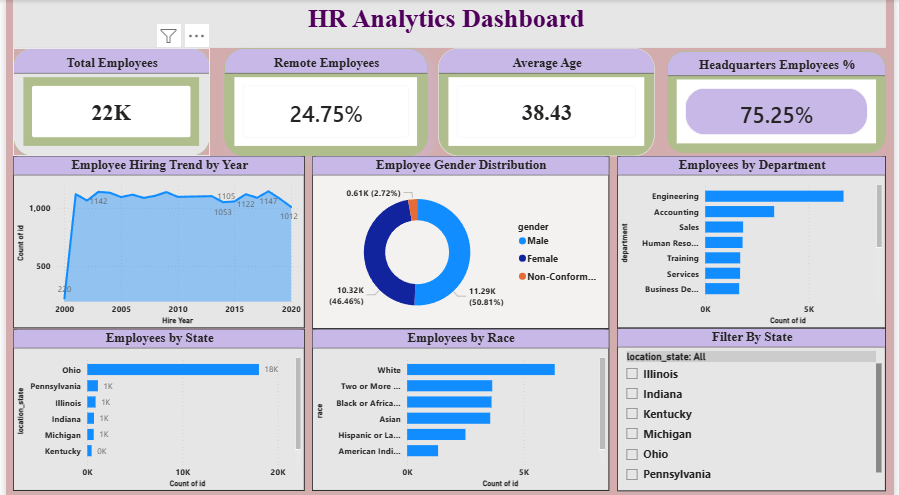

This screenshot's page, from the dashboard's own definition file:
{"tool":"powerbi","page":{"name":"HR Analytics Dashboard ","canvas":[1280,720],"ordinal":0},"visuals":[{"type":"textbox","box":[10.2,0,1257.1,68.8],"z":0},{"type":"cardVisual","title":"Total Employees ","fields":{"Data":["project_hr_analytics HR.Total Employees"]},"box":[10.1,69.1,283.7,155.5],"z":1000},{"type":"cardVisual","title":"Remote Employees ","fields":{"Data":["project_hr_analytics HR.Remote Employees %"]},"box":[313.9,69.1,293.8,155.5],"z":2000},{"type":"cardVisual","title":"Average Age ","fields":{"Data":["project_hr_analytics HR.Average Age"]},"box":[622.1,69.1,312.5,155.5],"z":3000},{"type":"cardVisual","title":"Headquarters Employees %","fields":{"Data":["project_hr_analytics HR.Headquarters Employees %"]},"box":[951.8,73.4,315.4,146.9],"z":4000},{"type":"lineChart","title":"Employee Hiring Trend by Year","fields":{"Category":["project_hr_analytics HR.Hire Year"],"Y":["CountNonNull(project_hr_analytics HR.id)"]},"box":[10.1,224.6,420.5,247.7],"z":5000},{"type":"donutChart","title":"Employee Gender Distribution","fields":{"Category":["project_hr_analytics HR.gender"],"Y":["CountNonNull(project_hr_analytics HR.id)"]},"box":[440.6,224.6,427.7,249.1],"z":6000},{"type":"clusteredBarChart","title":"Employees by Department","fields":{"Category":["project_hr_analytics HR.department"],"Y":["CountNonNull(project_hr_analytics HR.id)"]},"box":[879.8,224.6,387.4,247.7],"z":7000},{"type":"clusteredBarChart","title":"Employees by State ","fields":{"Category":["project_hr_analytics HR.location_state"],"Y":["CountNonNull(project_hr_analytics HR.id)"]},"box":[10.1,473.8,420.5,233.3],"z":8000},{"type":"clusteredBarChart","title":"Employees by Race ","fields":{"Category":["project_hr_analytics HR.race"],"Y":["CountNonNull(project_hr_analytics HR.id)"]},"box":[440.6,473.8,427.7,233.3],"z":9000},{"type":"slicer","title":"Filter By State ","fields":{"Values":["project_hr_analytics HR.location_state"]},"box":[879.8,472.3,387.4,234.7],"z":10000}]}

Visuals, with their boxes in screenshot pixels (x1, y1, x2, y2), scaled from the page's 1280x720 canvas onto the 899x495 screenshot:
textbox: detection(7, 0, 890, 47)
"Total Employees " cardVisual: detection(7, 48, 206, 154)
"Remote Employees " cardVisual: detection(220, 48, 427, 154)
"Average Age " cardVisual: detection(437, 48, 656, 154)
"Headquarters Employees %" cardVisual: detection(668, 50, 890, 151)
"Employee Hiring Trend by Year" lineChart: detection(7, 154, 302, 325)
"Employee Gender Distribution" donutChart: detection(309, 154, 610, 326)
"Employees by Department" clusteredBarChart: detection(618, 154, 890, 325)
"Employees by State " clusteredBarChart: detection(7, 326, 302, 486)
"Employees by Race " clusteredBarChart: detection(309, 326, 610, 486)
"Filter By State " slicer: detection(618, 325, 890, 486)
